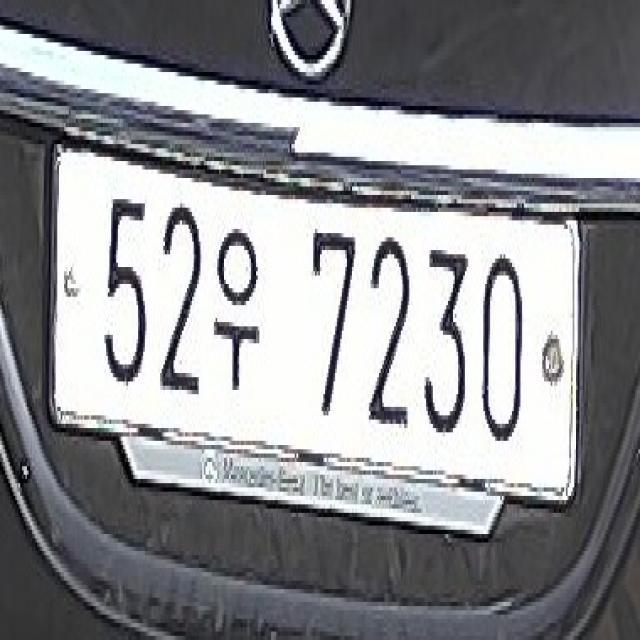0: (477, 242, 532, 456)
2: (362, 239, 414, 439), (156, 198, 203, 406)
3: (426, 237, 470, 446)
5: (104, 182, 148, 396)
7: (304, 216, 358, 420)
license_plate: (39, 119, 595, 541)
u: (210, 218, 262, 406)
